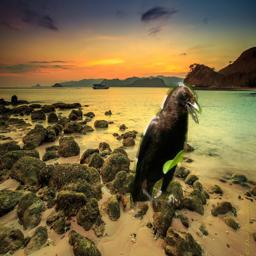Crow: (130, 82, 202, 212)
